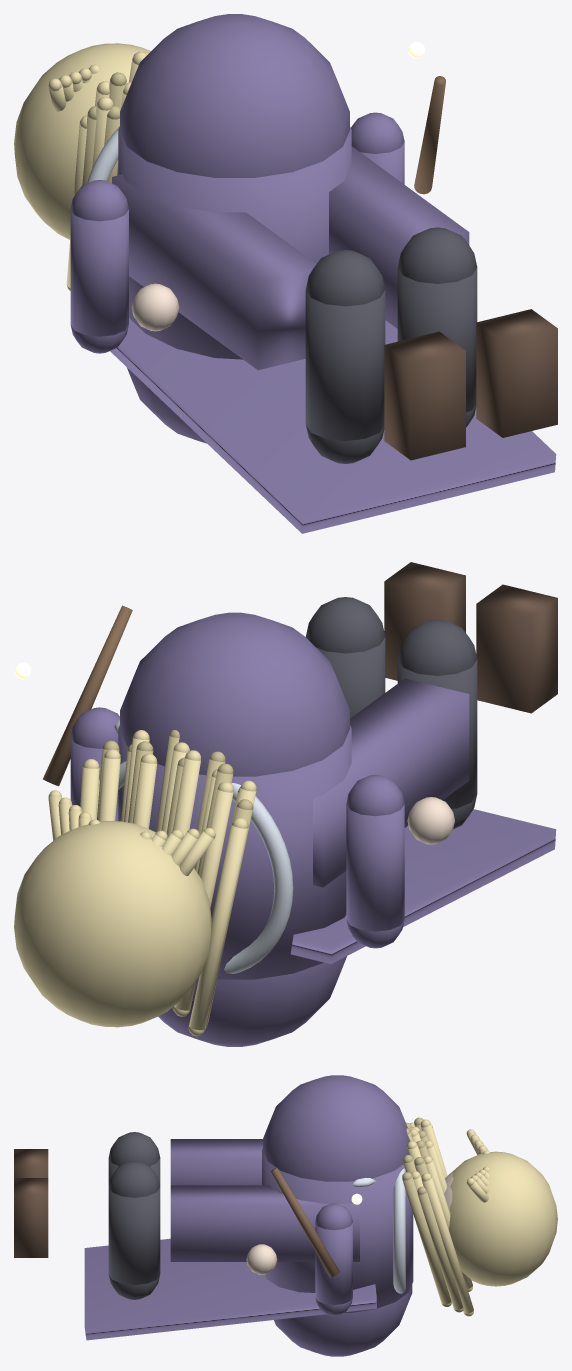
The model's file is luna.glb.
3 renders of one model, top to bottom at view 1: azimuth 30°, elevation 25°; view 2: azimuth 150°, elevation 25°; view 3: azimuth 270°, elevation 25°, orthographic. The views are drawn at different scales.
Parts seen in each view (by area): view 1: cloak, torso_top, robe_panel_l, torso_body, thigh_body, crown, boot, boot.001, robe_panel_r, upperL_body, thigh_body.001, thigh_top.001 (+11 smaller); view 2: crown, torso_top, torso_body, robe_panel_l, cloak, boot, torso_bot, upperL_body, boot.001, trim, thigh_top, thigh_top.001 (+17 smaller); view 3: cloak, torso_top, crown, robe_panel_r, torso_body, thigh_body.001, torso_bot, robe_panel_l, boot.001, upperR_body, trim, thigh_top.001 (+10 smaller).
Boxes of the visible parts, x1,y1,x2,y2 form: cloak: (110, 318, 556, 533); torso_top: (120, 14, 349, 177); robe_panel_l: (112, 174, 316, 370); torso_body: (118, 126, 351, 359); thigh_body: (305, 290, 385, 440); crown: (14, 43, 150, 239); boot: (384, 331, 465, 460); boot.001: (476, 309, 557, 437); robe_panel_r: (329, 146, 469, 328); upperL_body: (70, 209, 128, 336); thigh_body.001: (397, 267, 477, 412); thigh_top.001: (398, 227, 477, 283); crown: (14, 821, 211, 1027); torso_top: (120, 612, 349, 776); torso_body: (118, 725, 351, 979); robe_panel_l: (313, 678, 469, 887); cloak: (290, 809, 556, 963); boot: (476, 584, 557, 713); torso_bot: (158, 956, 346, 1046); upperL_body: (346, 804, 404, 931); boot.001: (384, 562, 465, 680); trim: (118, 761, 293, 973); thigh_top: (398, 619, 477, 675); thigh_top.001: (306, 597, 385, 653); cloak: (84, 1238, 376, 1340); torso_top: (263, 1075, 409, 1181); crown: (449, 1151, 557, 1286); robe_panel_r: (170, 1185, 359, 1261); torso_body: (262, 1148, 413, 1312); thigh_body.001: (108, 1187, 160, 1284); torso_bot: (274, 1284, 412, 1356); robe_panel_l: (170, 1139, 262, 1185); boot.001: (14, 1178, 48, 1257); upperR_body: (315, 1223, 352, 1304); trim: (393, 1168, 405, 1293); thigh_top.001: (108, 1161, 160, 1197).
Size of the model in its own units: 0.7987 by 0.86 by 1.58.
